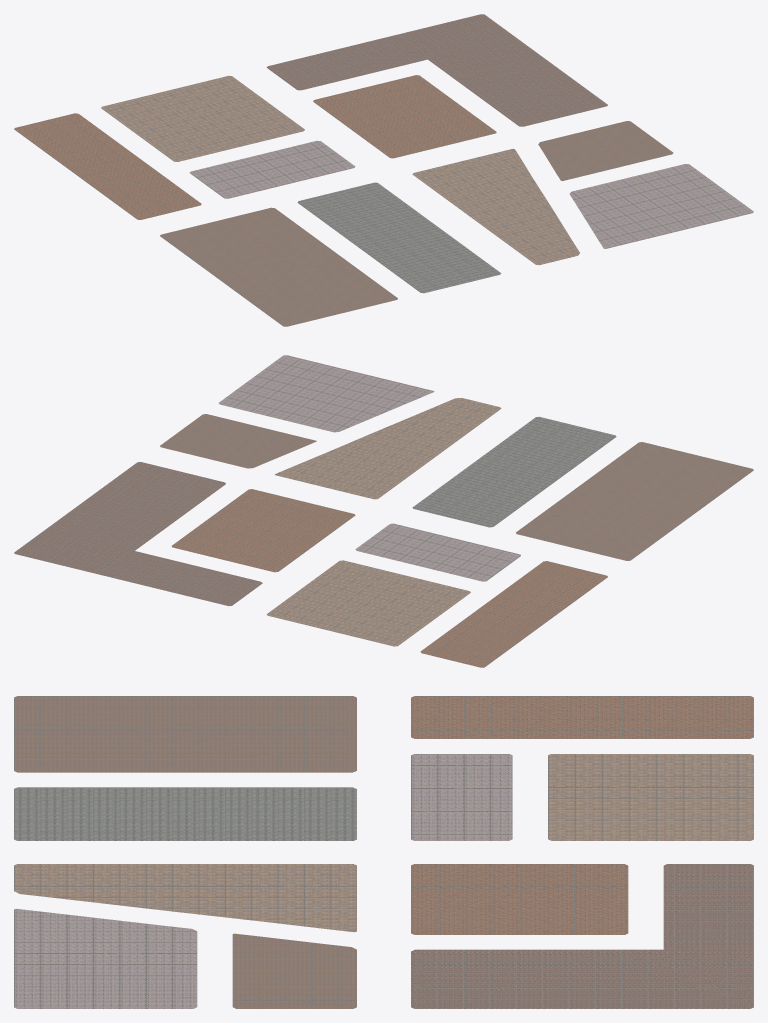
3 renders of one model, top to bottom at view 1: azimuth 30°, elevation 25°; view 2: azimuth 150°, elevation 25°; view 3: azimuth 270°, elevation 25°, orthographic. The views are drawn at different scales.
Parts seen in each view (by area): view 1: GD_1, GD_6_2, GD_5, GD_3_2, GD_3_1, GD_4_1, GD_2_1, GD_2_2, GD_4_2, GD_6_1; view 2: GD_1, GD_6_2, GD_5, GD_3_2, GD_3_1, GD_4_1, GD_2_1, GD_2_2, GD_4_2, GD_6_1; view 3: GD_1, GD_6_2, GD_5, GD_3_2, GD_3_1, GD_4_1, GD_2_1, GD_2_2, GD_4_2, GD_6_1.
Part boxes in pixels (x1,y1,x2,y2): GD_1: [266, 14, 607, 126]; GD_6_2: [160, 207, 397, 326]; GD_5: [297, 182, 501, 293]; GD_3_2: [101, 75, 304, 161]; GD_3_1: [412, 149, 579, 265]; GD_4_1: [569, 164, 753, 248]; GD_2_1: [313, 75, 496, 158]; GD_2_2: [14, 113, 201, 219]; GD_4_2: [190, 140, 355, 198]; GD_6_1: [538, 121, 673, 180]; GD_1: [14, 462, 262, 606]; GD_6_2: [516, 442, 753, 560]; GD_5: [412, 416, 616, 527]; GD_3_2: [266, 560, 470, 646]; GD_3_1: [275, 398, 501, 499]; GD_4_1: [219, 355, 434, 432]; GD_2_1: [171, 489, 355, 572]; GD_2_2: [420, 561, 607, 667]; GD_4_2: [355, 523, 520, 581]; GD_6_1: [160, 414, 316, 468]; GD_1: [411, 864, 753, 1008]; GD_6_2: [14, 696, 356, 772]; GD_5: [14, 787, 356, 840]; GD_3_2: [548, 754, 753, 840]; GD_3_1: [14, 864, 356, 932]; GD_4_1: [14, 909, 197, 1008]; GD_2_1: [411, 864, 628, 934]; GD_2_2: [411, 696, 753, 738]; GD_4_2: [411, 754, 512, 840]; GD_6_1: [232, 933, 356, 1008].
Size of the model in its own units: 896 by 0 by 896.
